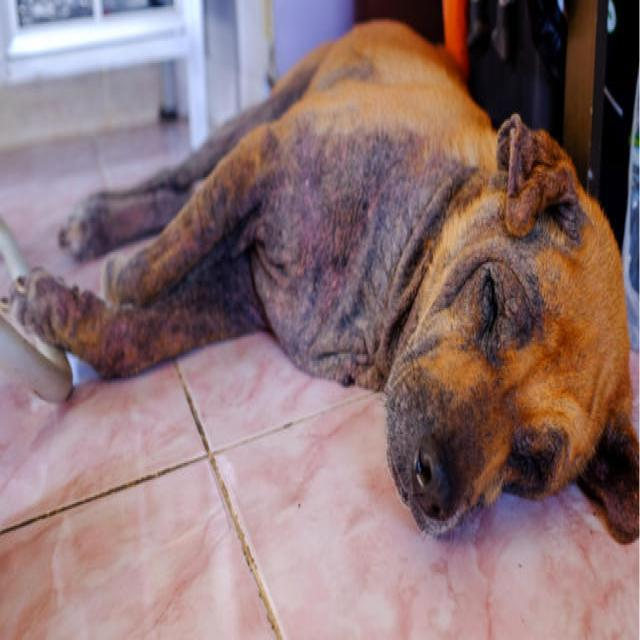mange: (274, 136, 374, 344), (356, 132, 444, 236), (224, 194, 286, 318), (358, 214, 417, 324)
